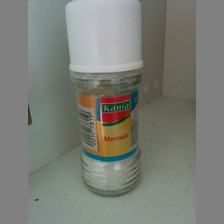spices: (64, 1, 145, 198)
